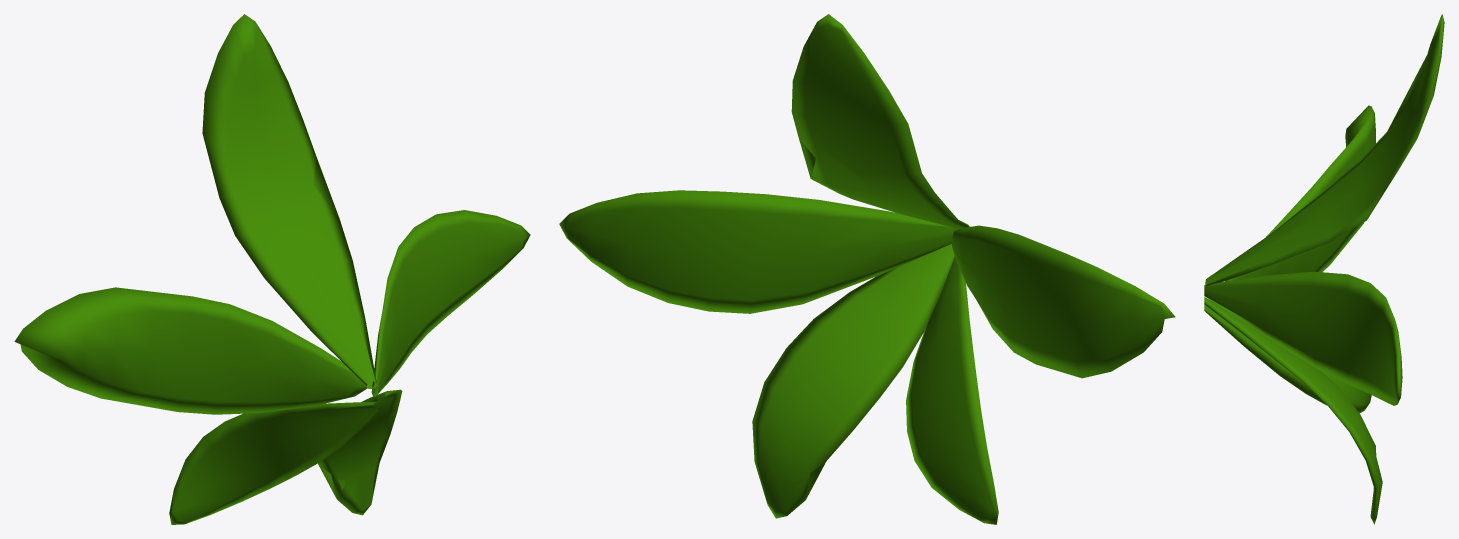
The model's file is planta3.fbx.
The picture shows the model from 3 angles, left to right: view 1: azimuth 30°, elevation 25°; view 2: azimuth 150°, elevation 25°; view 3: azimuth 270°, elevation 25°; orthographic projection. The views are drawn at different scales.
Visible parts, largest first — view 1: Plant 4; view 2: Plant 4; view 3: Plant 4.
Part boxes in pixels (x1,y1,x2,y2): Plant 4: (14, 14, 530, 524); Plant 4: (559, 14, 1175, 524); Plant 4: (1204, 14, 1444, 524).
Bounding box in the file's own units: 181 × 161 × 74.27.
